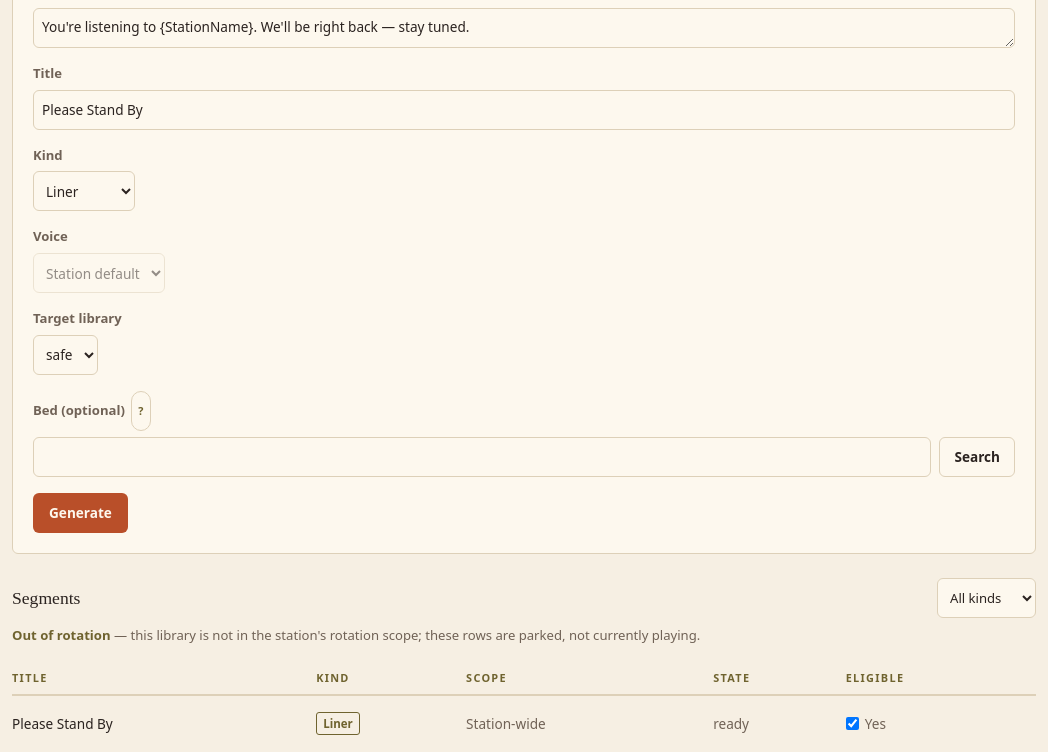
it: Feature: Out-of-rotation rows are labeled, not forbidden › Scenario (sad path): failures still surface › surfaces a toast on a genuine PATCH failure per F31.3 — no silent swallow
(page scrolled)
Click the checkbox named "eligible: please stand by" at point(852, 724), box [846,717,859,730]
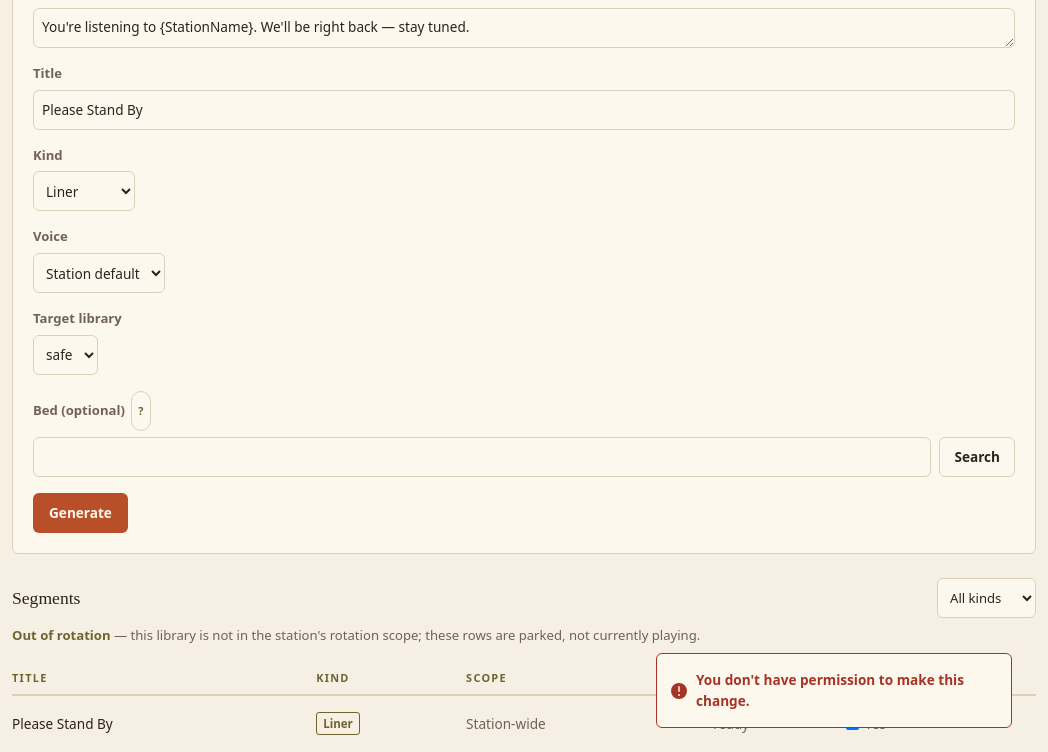
Result: the text "You don't have permission to make this change." is shown at [696,670,995,711]
